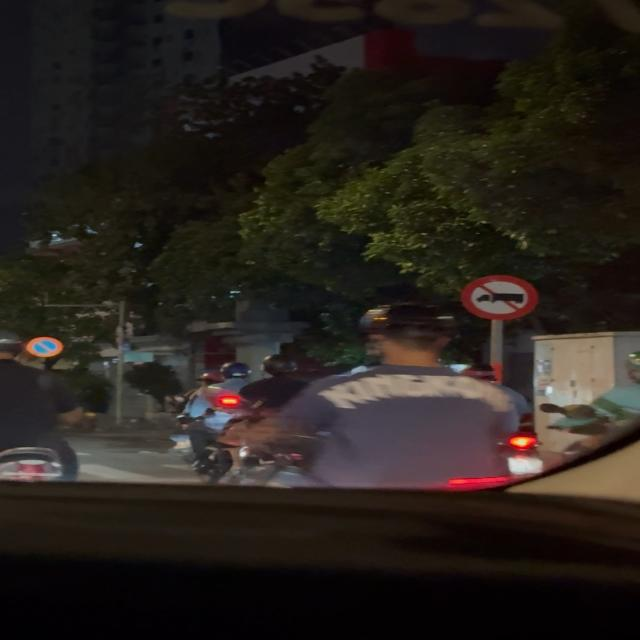Bien bao cam do xe: (27, 335, 68, 359)
Bien bao cam xe so-mi ro-mooc: (456, 276, 544, 322)
